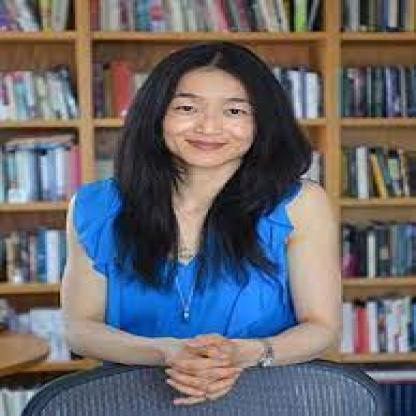person: (141, 44, 297, 176)
